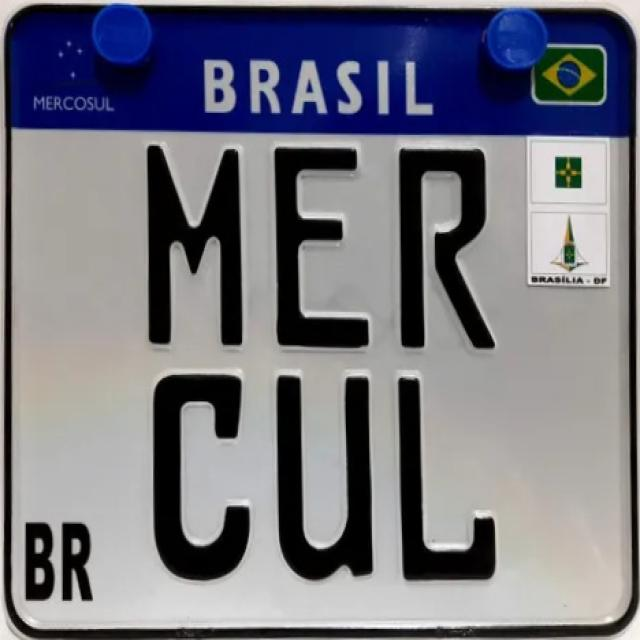Placa_mercosul_carro: (11, 17, 631, 627)
